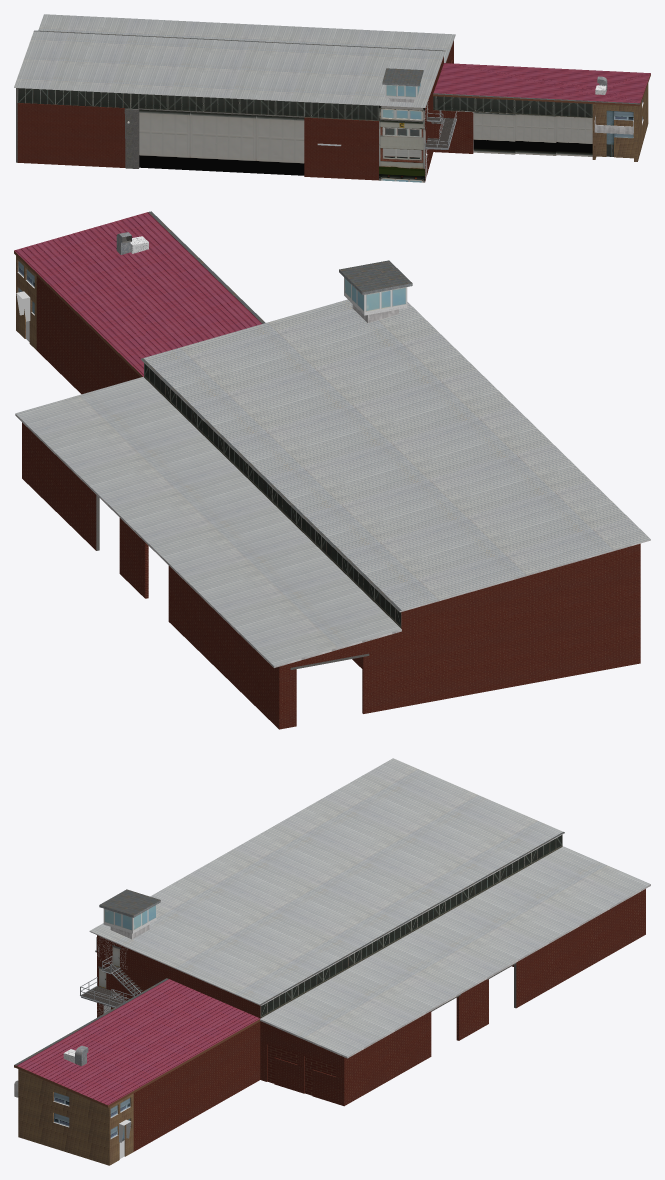
Rendered from EDST_TOWER.gltf.
The picture shows the model from 3 angles, top to bottom: view 1: azimuth 30°, elevation 25°; view 2: azimuth 150°, elevation 25°; view 3: azimuth 270°, elevation 25°; orthographic projection. The views are drawn at different scales.
Visible parts, largest first — view 1: SketchUp.080, SketchUp.005, SketchUp.096, SketchUp.001, SketchUp.122, SketchUp.014, SketchUp.067, SketchUp.011, SketchUp.002, SketchUp.078, SketchUp.013, SketchUp.065 (+10 smaller); view 2: SketchUp.080, SketchUp.005, SketchUp.062, SketchUp.098, SketchUp.004, SketchUp.100, SketchUp.079, SketchUp.002, SketchUp.084; view 3: SketchUp.080, SketchUp.005, SketchUp.062, SketchUp.098, SketchUp.002, SketchUp.004, SketchUp.013, SketchUp.057, SketchUp.079, SketchUp.100, SketchUp.060, SketchUp.084 (+3 smaller).
Boxes of the visible parts, x1,y1,x2,y2 form: SketchUp.080: (14,30,445,107); SketchUp.005: (38,14,650,104); SketchUp.096: (139,109,304,175); SketchUp.001: (17,103,125,167); SketchUp.122: (17,88,378,120); SketchUp.014: (473,112,592,156); SketchUp.067: (304,117,378,180); SketchUp.011: (433,96,592,117); SketchUp.002: (592,83,648,161); SketchUp.078: (379,105,424,182); SketchUp.013: (425,56,473,168); SketchUp.065: (124,109,138,168); SketchUp.080: (141,299,650,610); SketchUp.005: (14,211,401,665); SketchUp.062: (22,422,640,729); SketchUp.098: (36,276,140,394); SketchUp.004: (144,363,401,628); SketchUp.100: (339,260,412,292); SketchUp.079: (15,414,401,667); SketchUp.002: (16,256,36,349); SketchUp.084: (141,359,650,612); SketchUp.080: (90,758,564,1004); SketchUp.005: (14,846,650,1105); SketchUp.062: (312,889,645,1106); SketchUp.098: (133,1021,260,1151); SketchUp.002: (18,1069,133,1165); SketchUp.004: (260,835,562,1018); SketchUp.013: (97,948,260,1018); SketchUp.057: (260,1021,344,1095); SketchUp.079: (260,884,650,1058); SketchUp.100: (100,889,160,915); SketchUp.060: (274,1057,304,1093); SketchUp.084: (89,832,564,1005).
Bounding box in the file's own units: 72.71 × 13.13 × 62.63.
